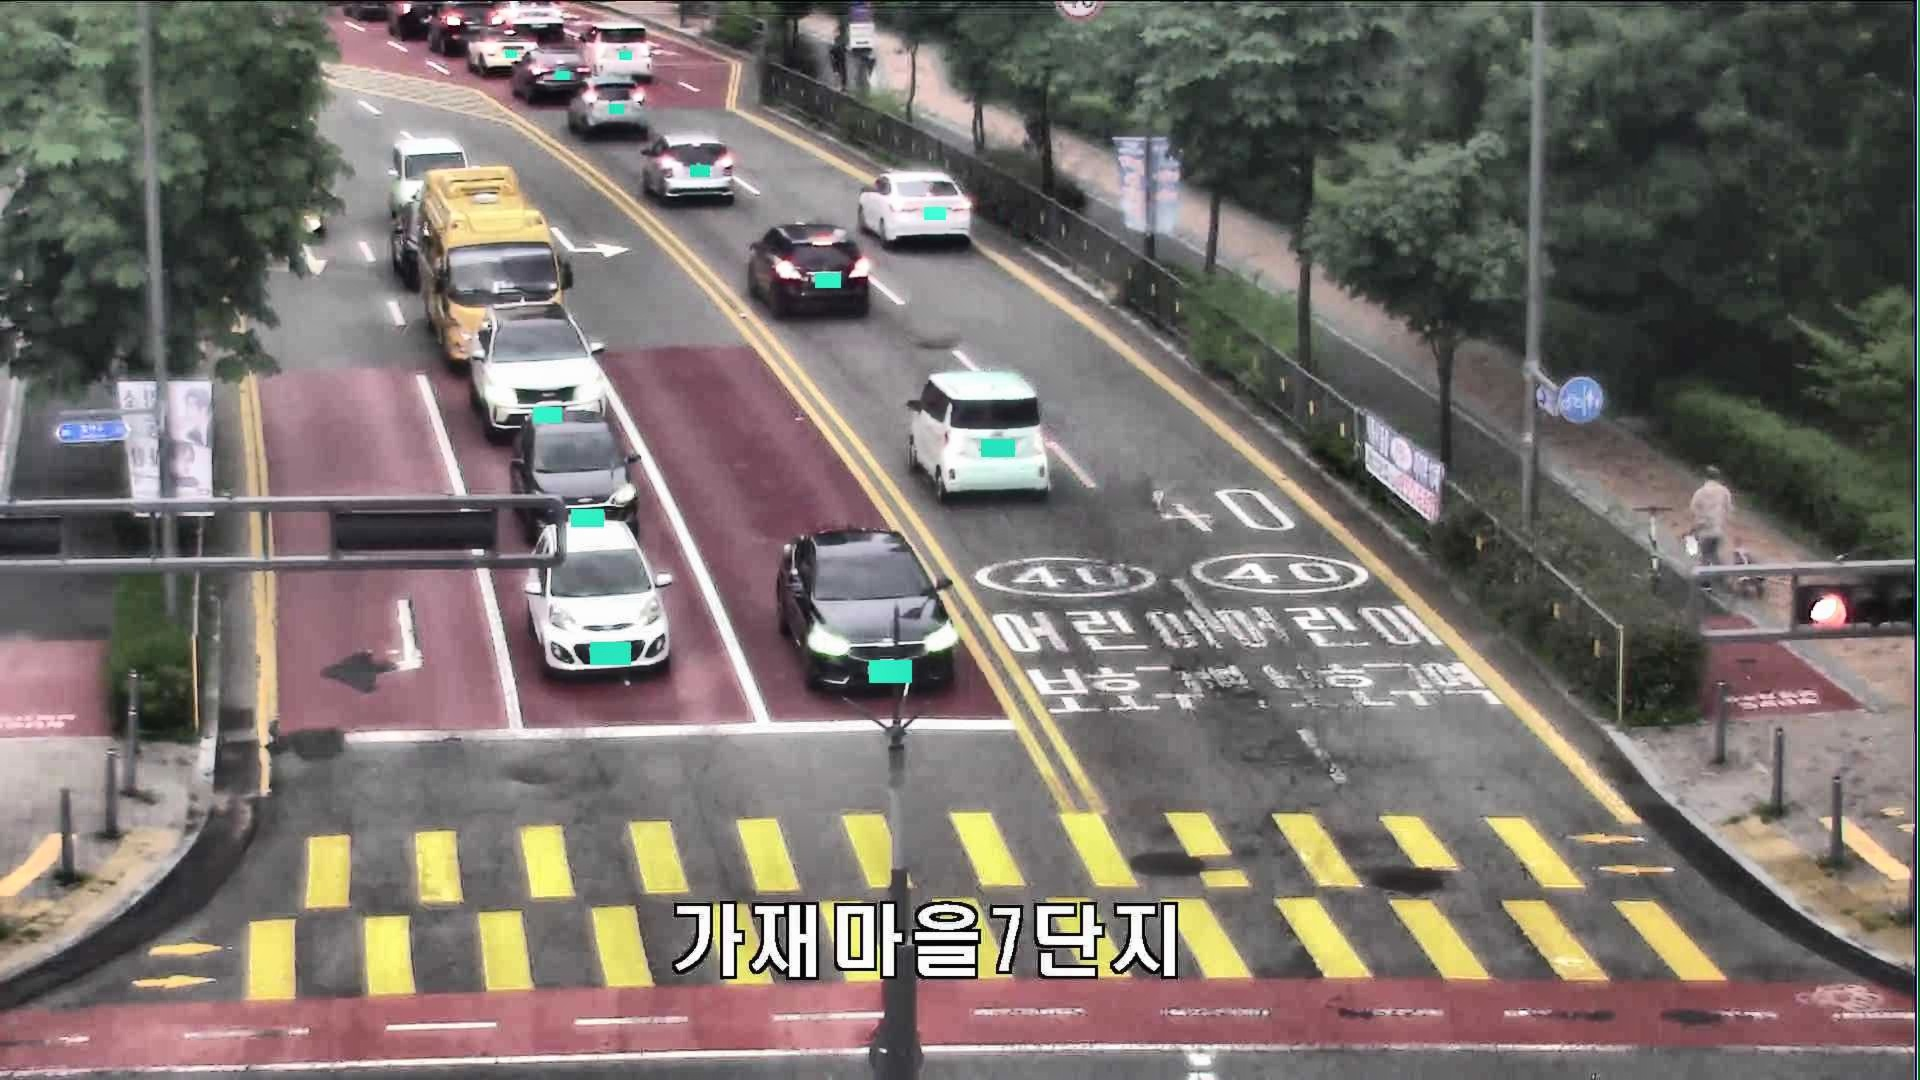sidewalk: (1691, 464, 1731, 593)
